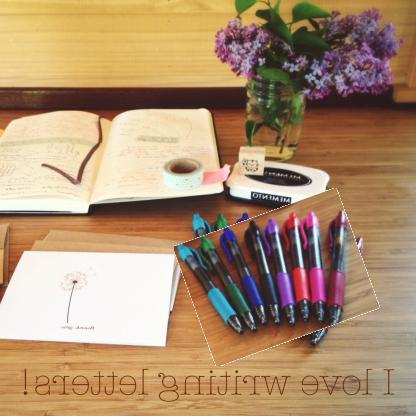Pen: (181, 201, 371, 355)
